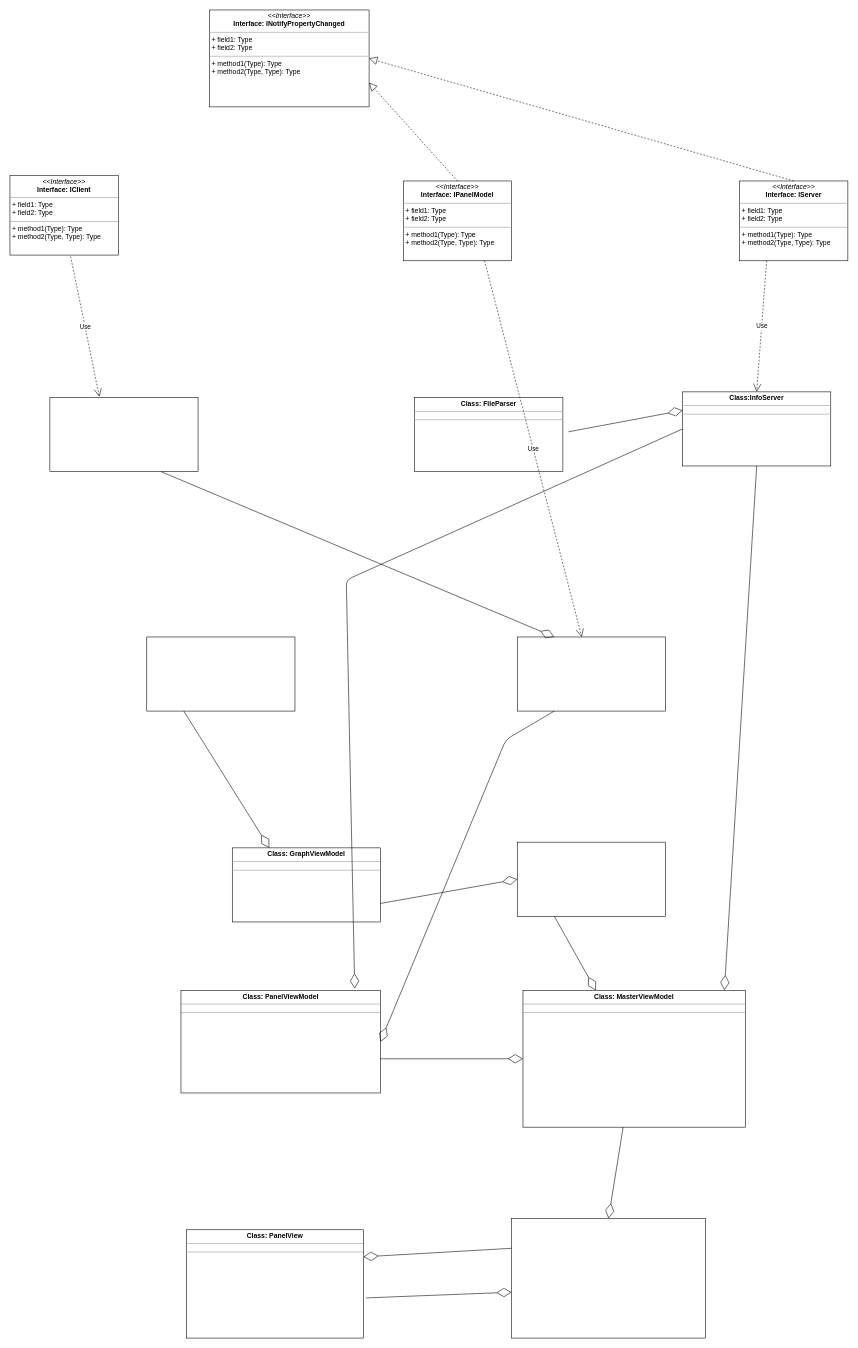
The diagram is 858 pixels wide and 1348 high, and some of its shapes have lost their labels. The box of each missing label's shape, as (x1, y1, x2, y2) in pixels:
Class: GraphManager: (517, 842, 665, 916)
Class: GraphModel: (146, 636, 295, 711)
Class: GraphWindow: (511, 1218, 705, 1338)
Class: PanelModel: (517, 636, 665, 711)
Class:Client: (49, 397, 198, 472)
